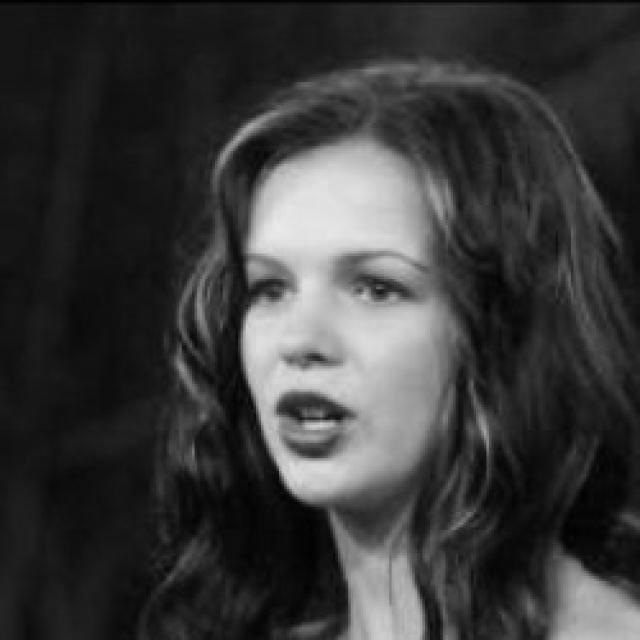real: (237, 142, 467, 506), (251, 265, 415, 308)
